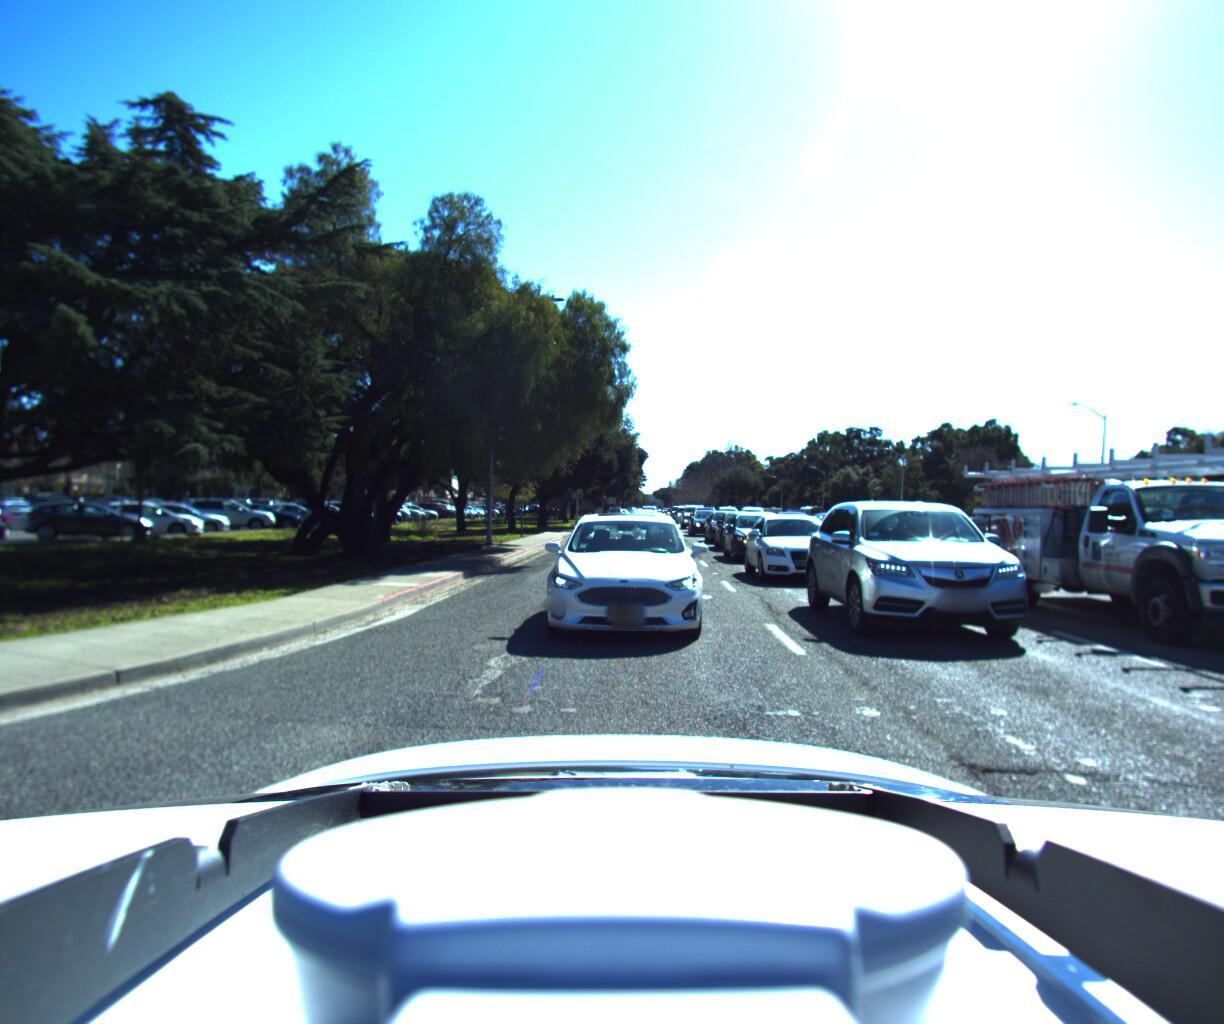car: (792, 490, 1045, 652), (534, 503, 711, 649), (732, 506, 849, 582), (714, 508, 800, 562), (601, 508, 664, 560), (707, 507, 775, 553), (683, 508, 722, 538), (674, 503, 705, 530)
other_vehicle: (939, 405, 1224, 675), (866, 500, 917, 535)
